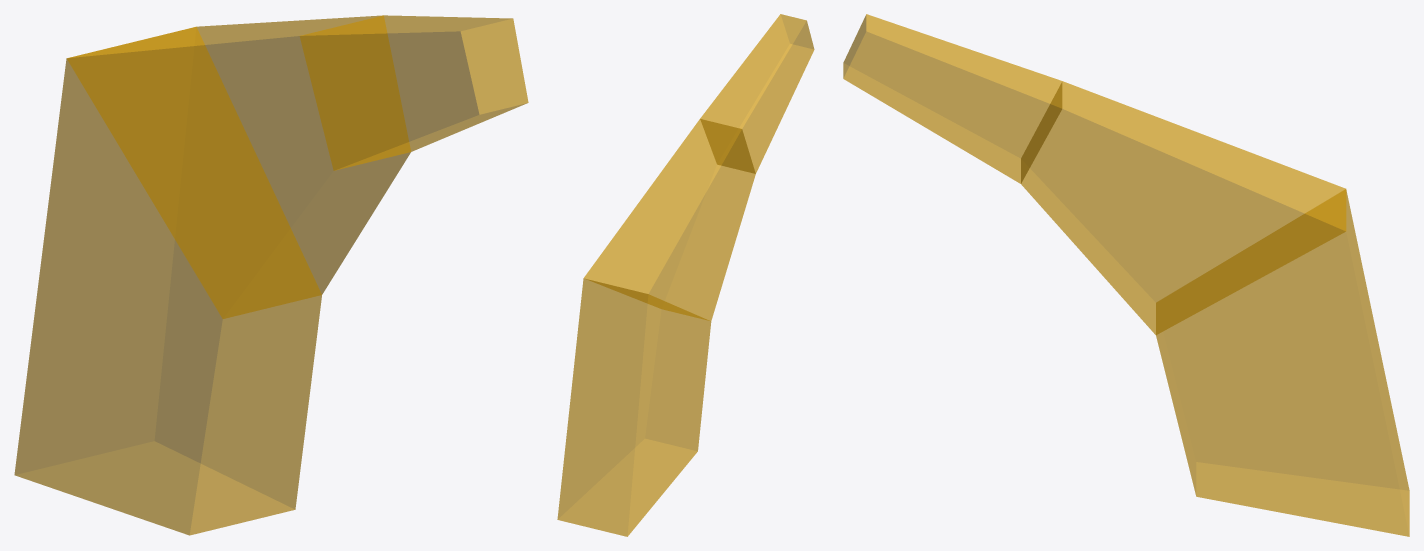
The model's file is SM_Veh_Ship_S_Figurehead_05_Collision.fbx.
3 renders of one model, left to right at view 1: azimuth 30°, elevation 25°; view 2: azimuth 150°, elevation 25°; view 3: azimuth 270°, elevation 25°, orthographic. The views are drawn at different scales.
Visible parts, largest first — view 1: SM_Veh_Ship_S_Figurehead_05_Collision; view 2: SM_Veh_Ship_S_Figurehead_05_Collision; view 3: SM_Veh_Ship_S_Figurehead_05_Collision.
Part boxes in pixels (left/top/right/bottom): SM_Veh_Ship_S_Figurehead_05_Collision: left=14, top=15, right=528, bottom=535; SM_Veh_Ship_S_Figurehead_05_Collision: left=557, top=14, right=814, bottom=536; SM_Veh_Ship_S_Figurehead_05_Collision: left=843, top=14, right=1409, bottom=536.
Size of the model in its own units: 78.5 by 390 by 407.
